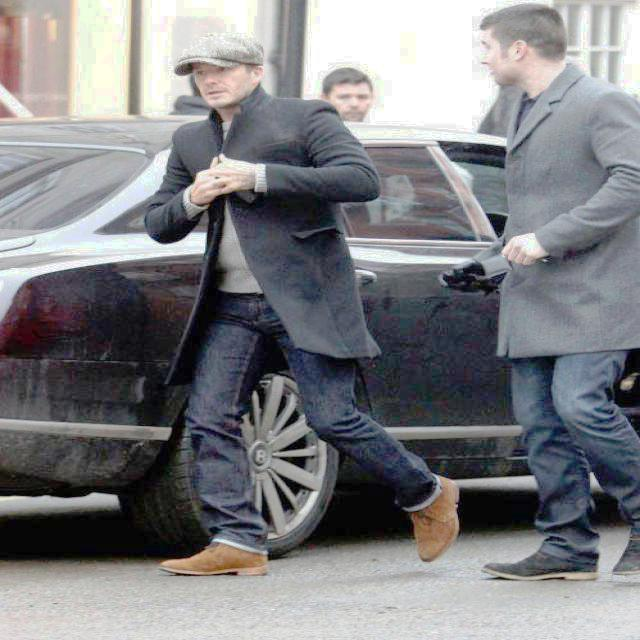TOPI: (178, 30, 266, 74)
